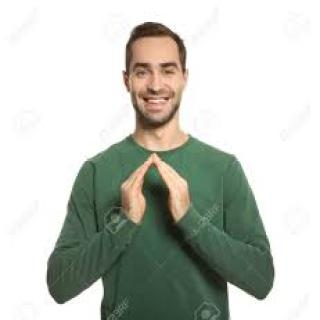House: (115, 142, 201, 226)
